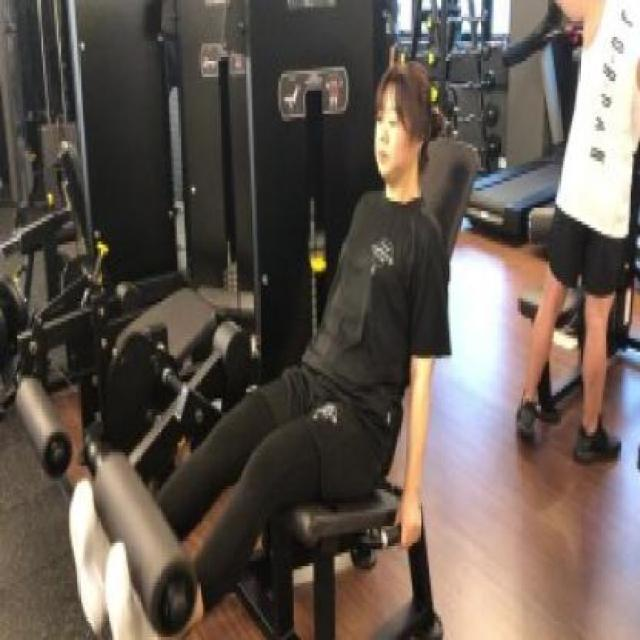leg extension: (58, 0, 480, 640)
